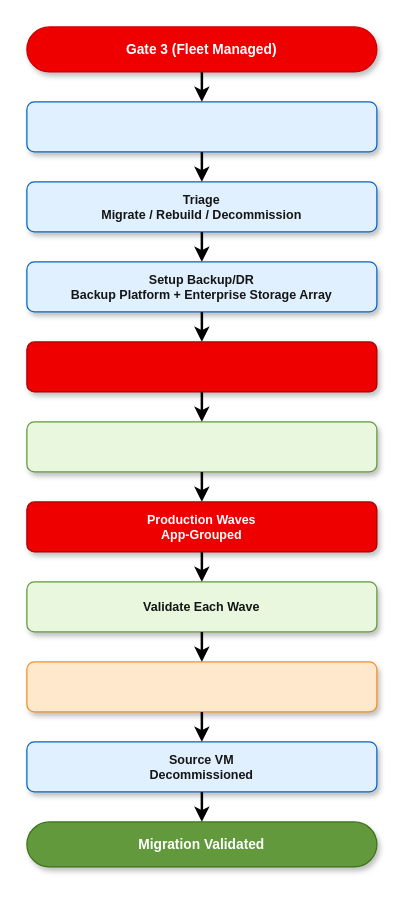
The diagram is 406 pixels wide and 898 high, and some of its shapes have lost their labels. The shapes that lost their labels are listed below. From the top down, each one's centre as x and y in pixels, then its label:
At [202,128]: "Discover VMs vCenter Inventory".
At [202,368]: "Pilot Wave N VMs".
At [202,448]: "Validate Pilot".
At [202,688]: "Holdback Period Source Powered Off".
